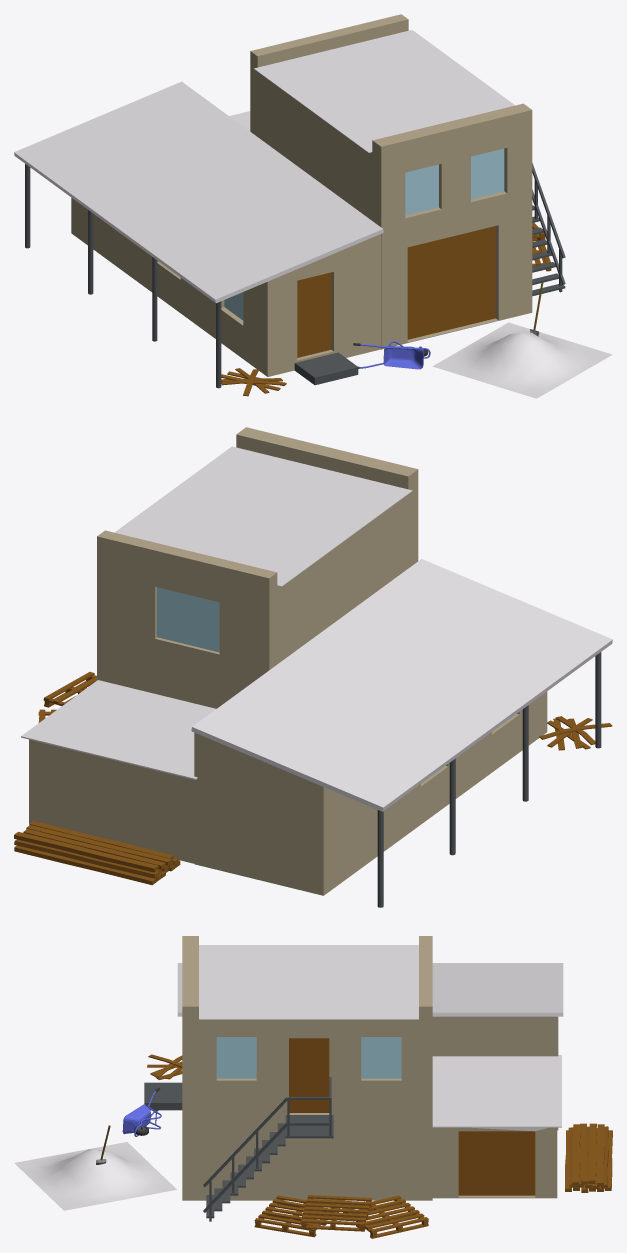
File: builder_house_snow.fbx
The picture shows the model from 3 angles, top to bottom: view 1: azimuth 30°, elevation 25°; view 2: azimuth 150°, elevation 25°; view 3: azimuth 270°, elevation 25°; orthographic projection. The views are drawn at different scales.
Visible parts, largest first — view 1: builder_house, snow, wheelbarrow, debris; view 2: builder_house, planks, debris, palette; view 3: builder_house, snow, palette, planks, wheelbarrow, debris.
Part boxes in pixels (x1,y1,x2,y2): builder_house: (14,14,565,388); snow: (432,322,612,398); wheelbarrow: (353,341,430,369); debris: (221,368,286,396); builder_house: (21,427,612,907); planks: (14,821,180,885); debris: (539,716,612,750); palette: (38,672,96,722); builder_house: (144,936,563,1221); snow: (14,1142,176,1210); palette: (254,1195,428,1238); planks: (565,1123,612,1192); wheelbarrow: (122,1087,161,1136); debris: (147,1054,182,1079).
Bounding box in the file's own units: 1105 × 536 × 1490.
